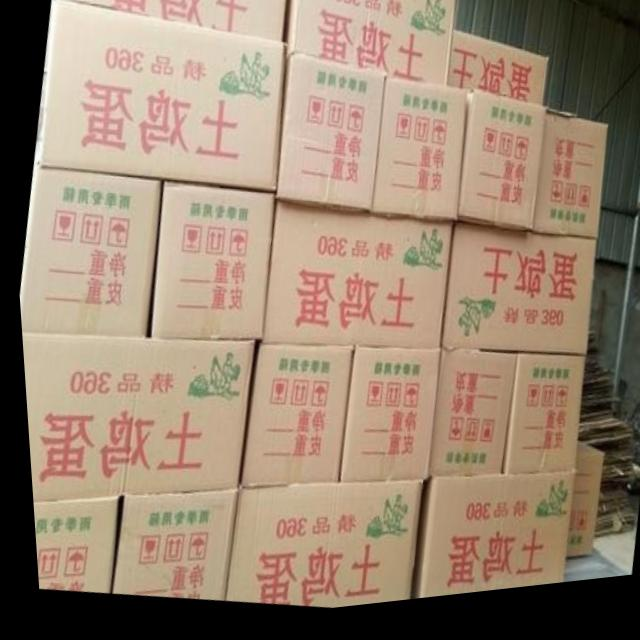box: (39, 2, 285, 197), (17, 332, 251, 499), (257, 206, 448, 355), (217, 489, 414, 614), (17, 168, 158, 341), (435, 232, 592, 368), (143, 183, 270, 344), (402, 484, 564, 608), (272, 61, 385, 218), (284, 0, 455, 97), (232, 348, 347, 489), (367, 86, 464, 232), (104, 494, 229, 603), (330, 354, 432, 487), (454, 102, 543, 241), (420, 358, 510, 485), (494, 363, 579, 484), (69, 0, 285, 46), (529, 125, 604, 250), (26, 499, 111, 591), (444, 41, 546, 117), (556, 453, 594, 567)
